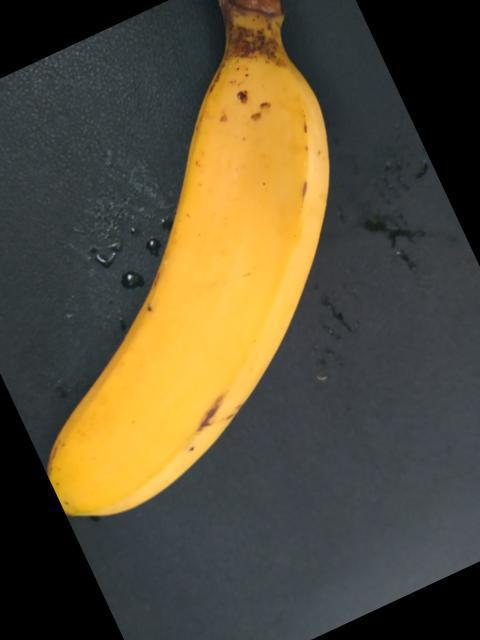freshripe: (30, 41, 359, 545)
